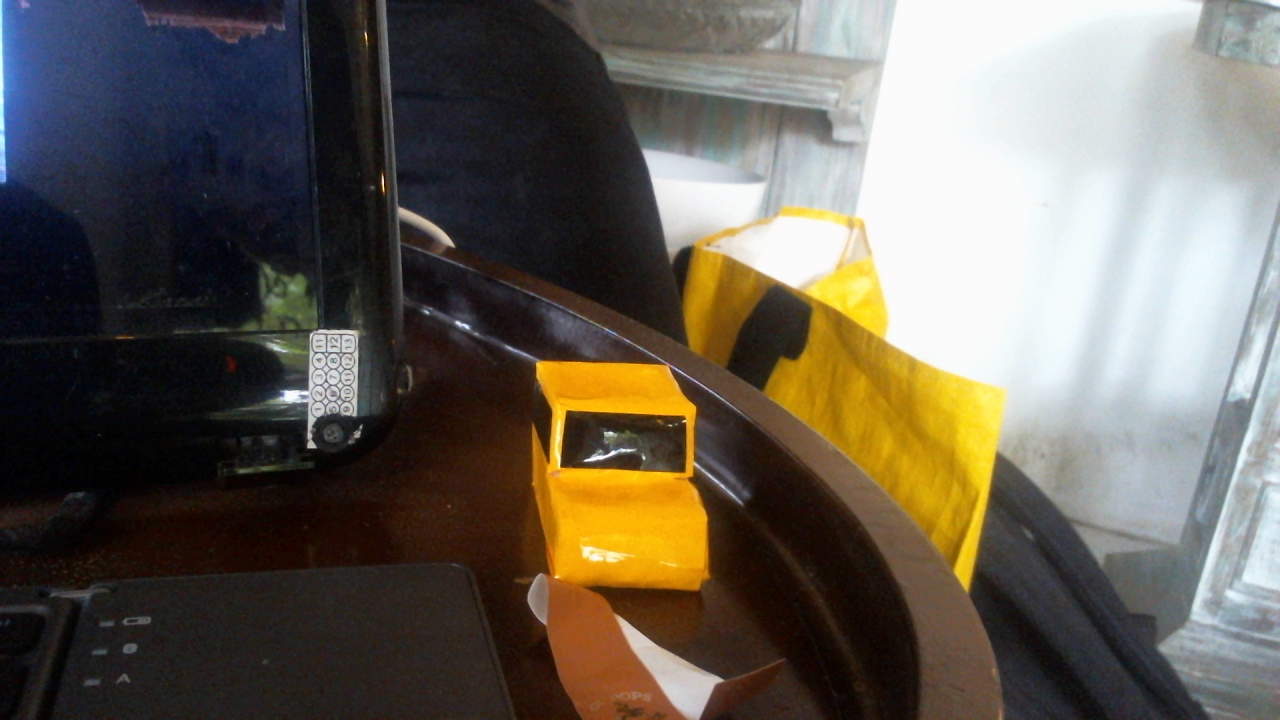Kijang Kapsul: (484, 341, 784, 598)
